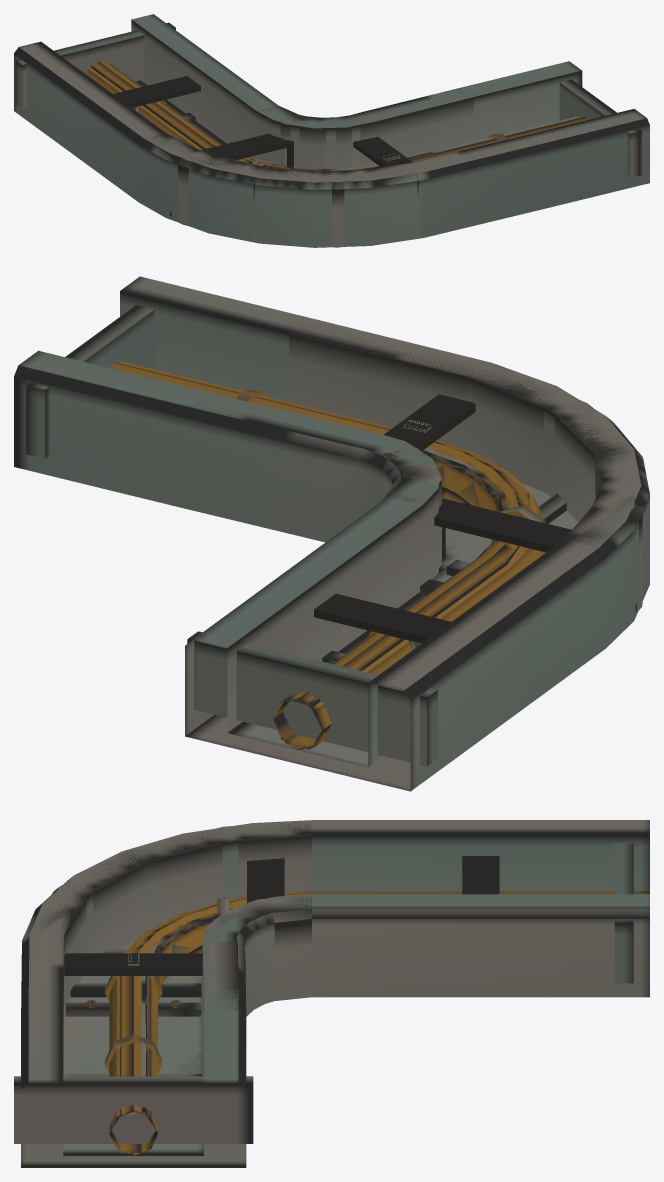
The model's file is place_works_conduit_power_corner.glb.
3 renders of one model, top to bottom at view 1: azimuth 30°, elevation 25°; view 2: azimuth 150°, elevation 25°; view 3: azimuth 270°, elevation 25°, orthographic. The views are drawn at different scales.
Visible parts, largest first — view 1: LOD0_Merged_Material_Atlas, LOD1_Merged_Material_Atlas; view 2: LOD0_Merged_Material_Atlas, LOD1_Merged_Material_Atlas; view 3: LOD0_Merged_Material_Atlas, LOD1_Merged_Material_Atlas.
Boxes of the visible parts, x1,y1,x2,y2 form: LOD0_Merged_Material_Atlas: [14, 14, 649, 247]; LOD1_Merged_Material_Atlas: [90, 62, 582, 247]; LOD0_Merged_Material_Atlas: [14, 276, 649, 791]; LOD1_Merged_Material_Atlas: [119, 318, 643, 749]; LOD0_Merged_Material_Atlas: [14, 820, 649, 1167]; LOD1_Merged_Material_Atlas: [23, 820, 649, 1152].
Bounding box in the file's own units: 1.36 × 0.2 × 1.36.
Materials: 1 (1 with a texture image).
